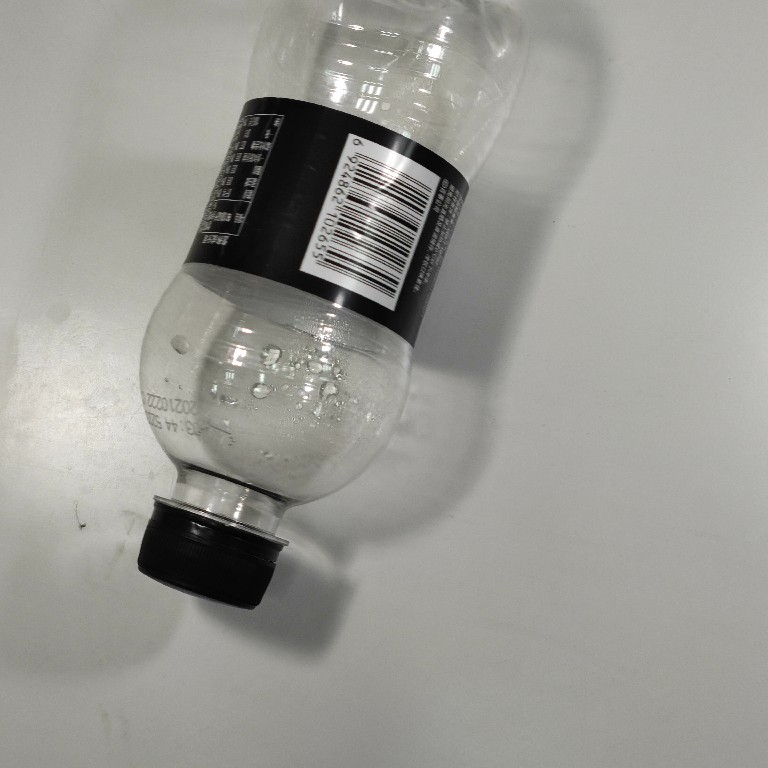bottle: (122, 1, 549, 626)
